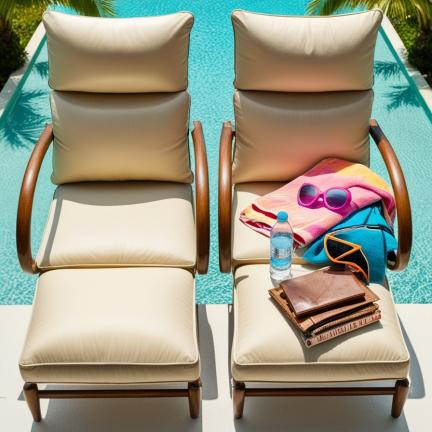empty chair: (16, 11, 209, 421)
occupied chair: (219, 10, 412, 418)
